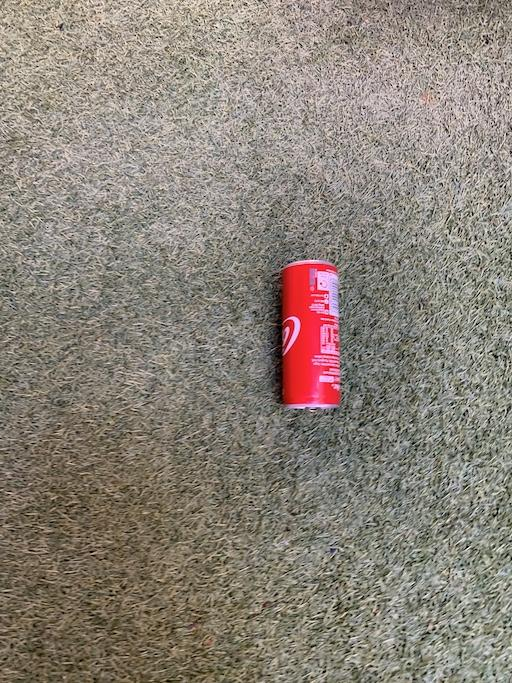Aluminum can: (248, 244, 367, 426)
